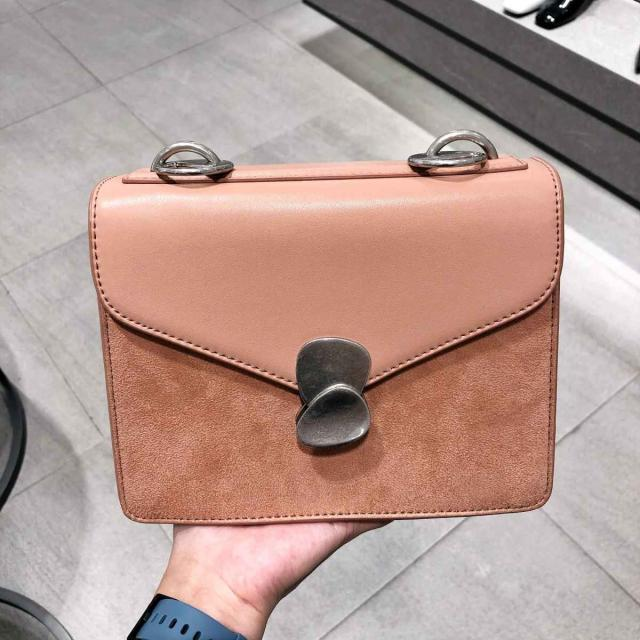Handbag: (101, 110, 598, 520)
